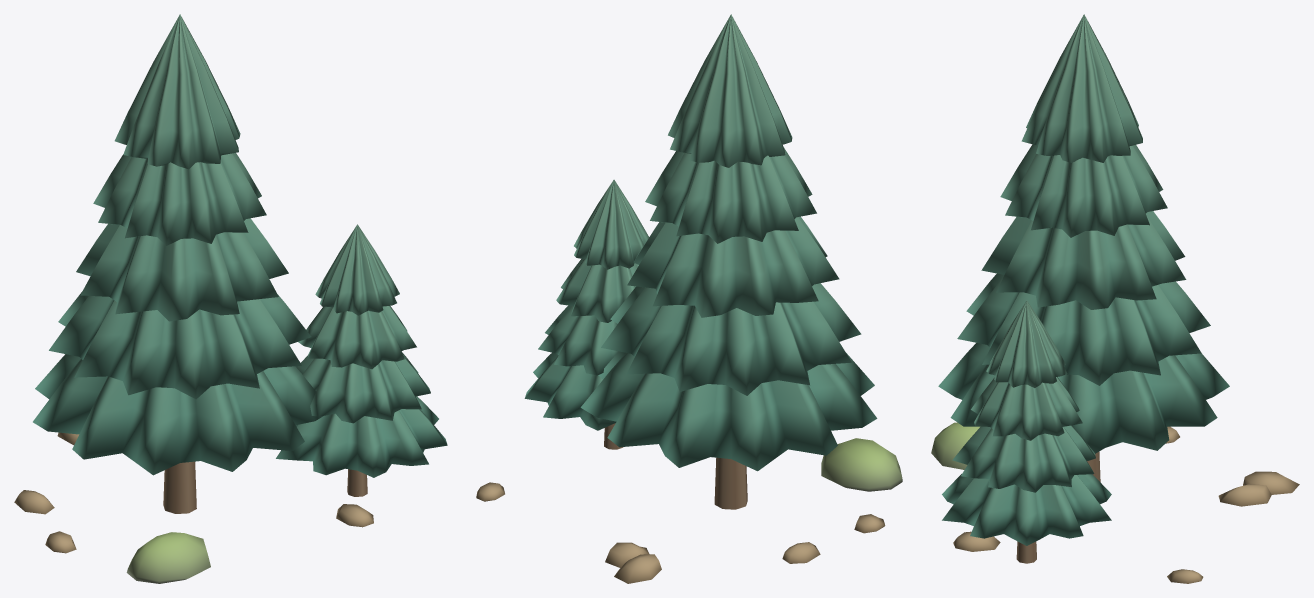
File: forest_pine_b.glb
The picture shows the model from 3 angles, left to right: view 1: azimuth 30°, elevation 25°; view 2: azimuth 150°, elevation 25°; view 3: azimuth 270°, elevation 25°; orthographic projection. The views are drawn at different scales.
Parts seen in each view (by area): view 1: body; view 2: body; view 3: body.
Boxes of the visible parts, bbox=[...] form: body: bbox=[14, 14, 447, 583]; body: bbox=[476, 14, 902, 583]; body: bbox=[931, 14, 1299, 583].
Bounding box in the file's own units: 0.5773 × 0.7334 × 0.5151.
